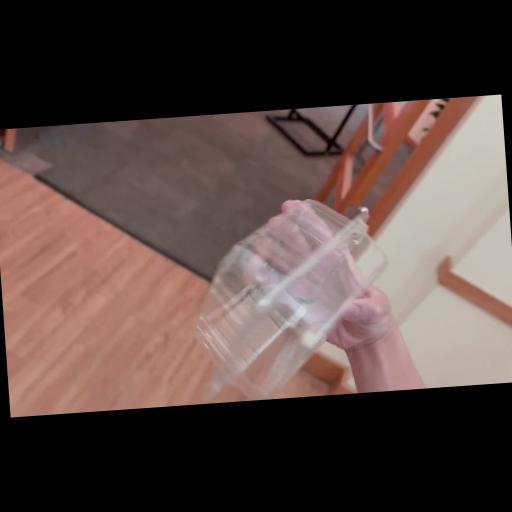small_plastic_container: (185, 194, 397, 403)
